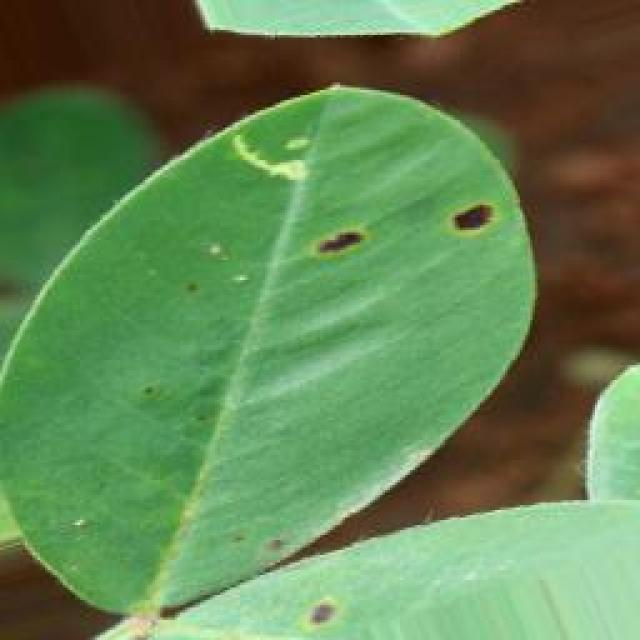Sigatoka: (427, 170, 524, 268), (307, 205, 368, 293), (223, 517, 305, 575), (282, 589, 367, 640)
